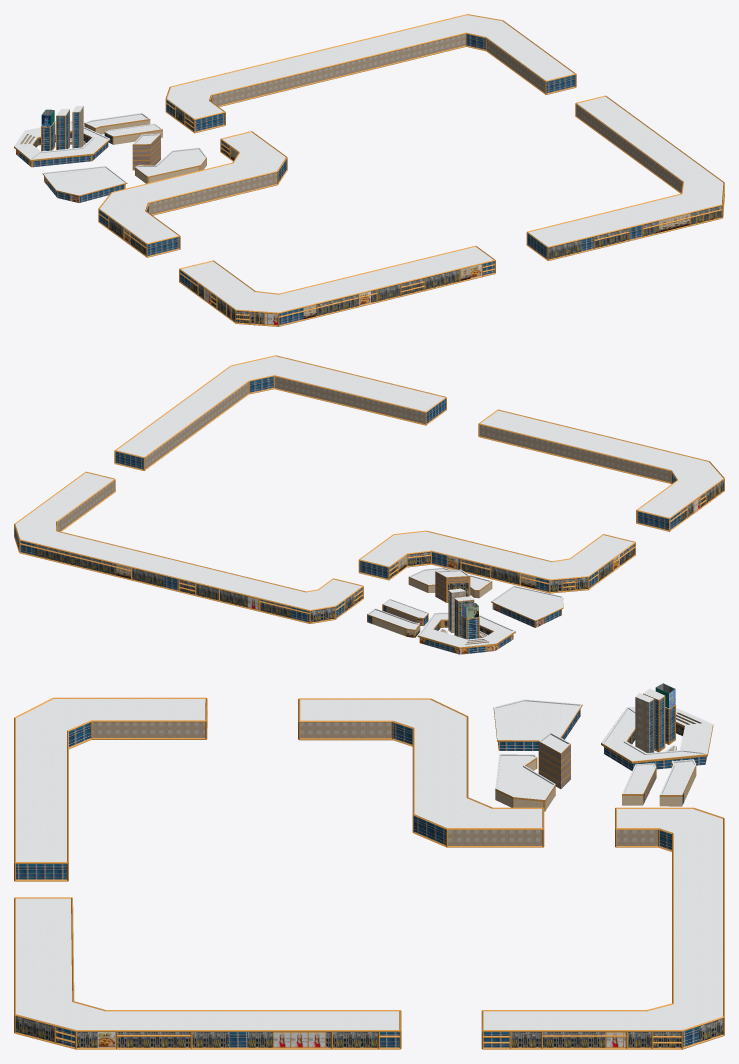
The model's file is group_shop_1.obj.
3 views of the same model, one above another, from view 1: azimuth 30°, elevation 25°; view 2: azimuth 150°, elevation 25°; view 3: azimuth 270°, elevation 25° (orthographic). The views are drawn at different scales.
Visible parts, largest first — view 1: shop_2, shop_1; view 2: shop_2, shop_1; view 3: shop_2, shop_1.
Boxes of the visible parts, x1,y1,x2,y2 form: shop_2: (98,14,724,326); shop_1: (14,106,206,202); shop_2: (14,355,724,623); shop_1: (367,567,563,654); shop_2: (14,697,724,1049); shop_1: (493,688,713,811).
Size of the model in its own units: 2281 by 184 by 2029.
Materials: 16 (14 with a texture image).
